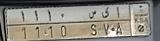0: (60, 12, 68, 38)
1: (19, 10, 29, 40), (33, 9, 43, 39), (47, 8, 56, 39)
A: (114, 5, 124, 36)
S: (88, 9, 98, 37)
V: (100, 6, 112, 36)
